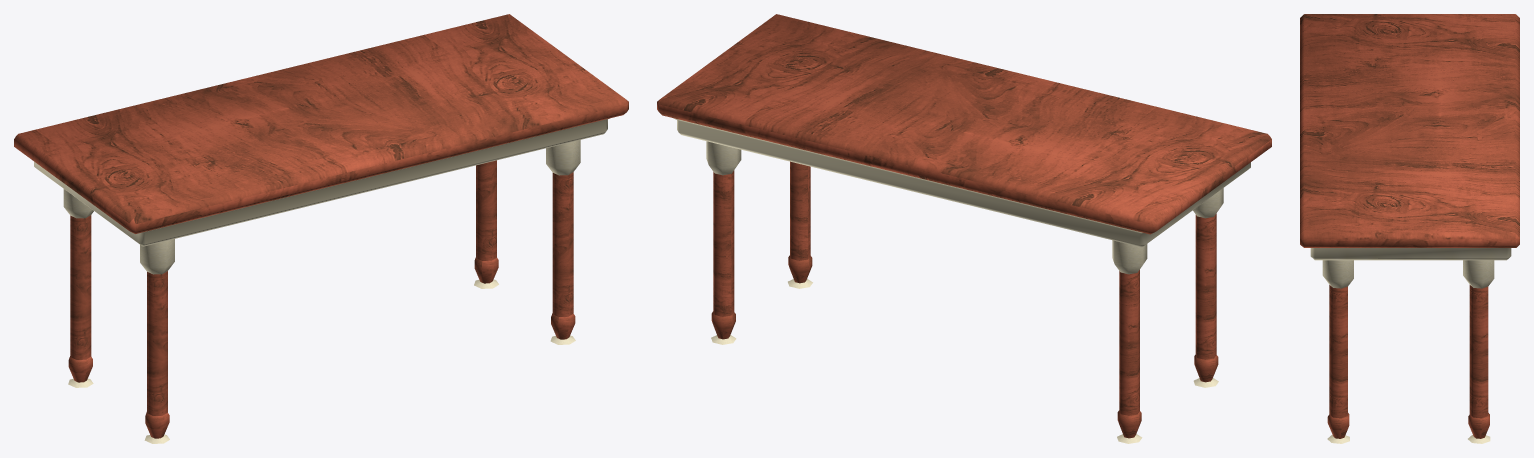
The model's file is Table Long Wood.fbx.
The picture shows the model from 3 angles, left to right: view 1: azimuth 30°, elevation 25°; view 2: azimuth 150°, elevation 25°; view 3: azimuth 270°, elevation 25°; orthographic projection. The views are drawn at different scales.
Visible parts, largest first — view 1: Table Long Wood; view 2: Table Long Wood; view 3: Table Long Wood.
Boxes of the visible parts, x1,y1,x2,y2 form: Table Long Wood: (14, 14, 628, 443); Table Long Wood: (657, 14, 1271, 443); Table Long Wood: (1300, 14, 1519, 443).
Bounding box in the file's own units: 138 × 64.8 × 57.53.
